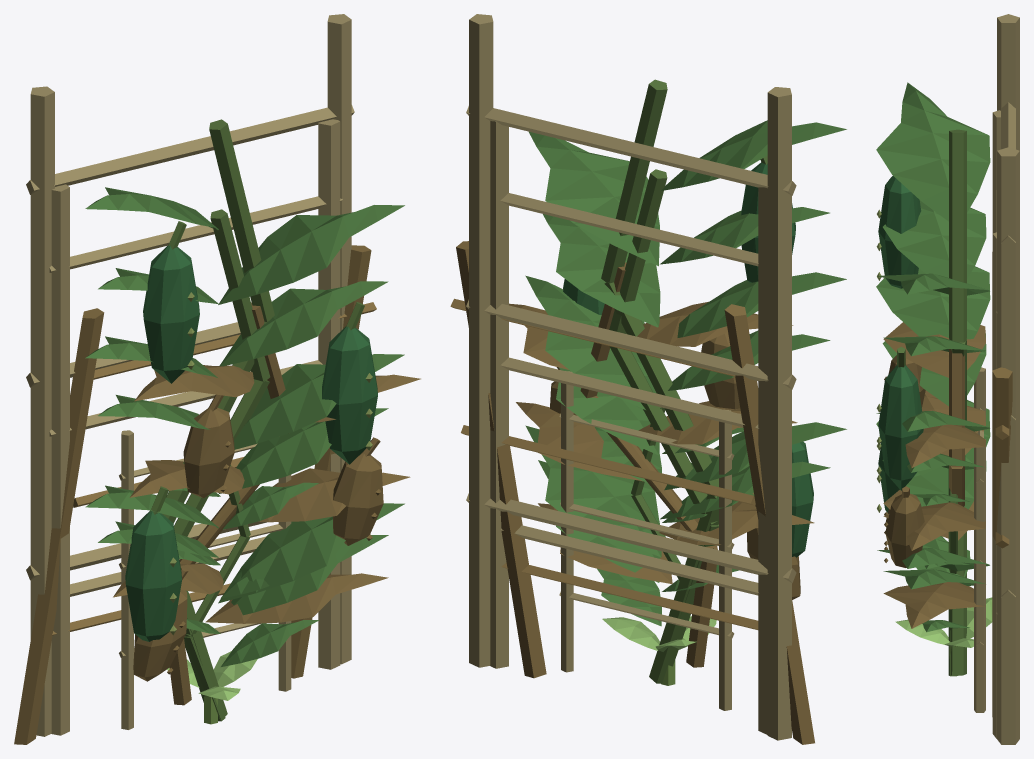
File: summer_cucumber.glb
3 views of the same model, side by side, from view 1: azimuth 30°, elevation 25°; view 2: azimuth 150°, elevation 25°; view 3: azimuth 270°, elevation 25° (orthographic). The views are drawn at different scales.
Parts seen in each view (by area): view 1: stage3, stage2, dead, stage1, stage0; view 2: stage3, stage2, dead, stage1, stage0; view 3: stage3, dead, stage2, stage1, stage0.
Part boxes in pixels (x1,y1,x2,y2): stage3: (26, 14, 404, 736); stage2: (49, 119, 388, 735); dead: (14, 245, 420, 744); stage1: (119, 430, 319, 729); stage0: (167, 651, 257, 724); stage3: (466, 14, 846, 740); stage2: (490, 121, 830, 734); dead: (450, 241, 814, 744); stage1: (559, 371, 754, 710); stage0: (602, 616, 716, 685); stage3: (876, 14, 1019, 744); dead: (883, 252, 1012, 716); stage2: (882, 110, 1000, 738); stage1: (913, 367, 985, 712); stage0: (895, 597, 992, 675).
Bounding box in the file's own units: 0.6051 × 1.03 × 0.228.
